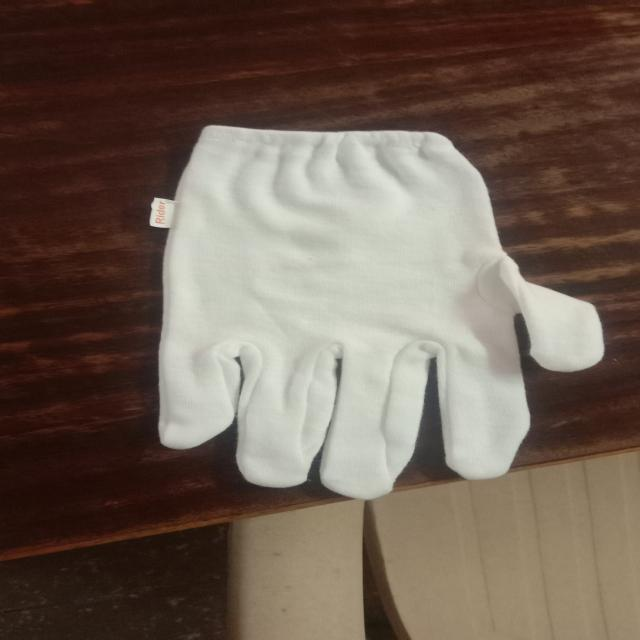glove_hand: (140, 119, 610, 508)
